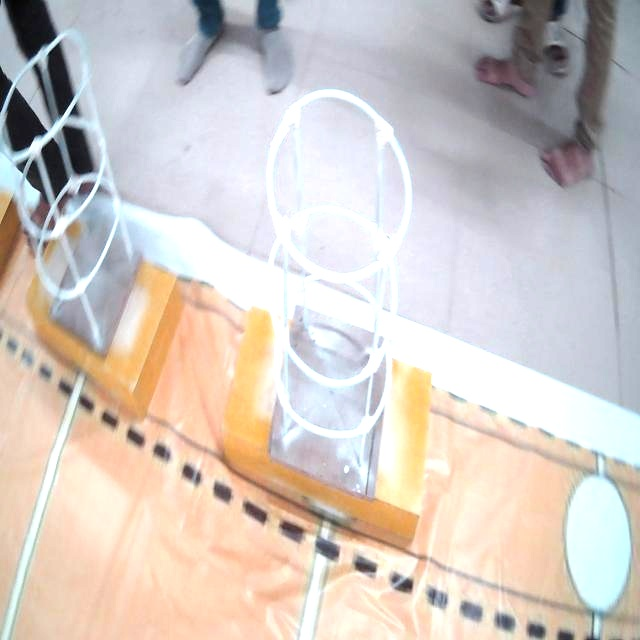silo: (263, 90, 411, 502), (0, 26, 132, 354)
